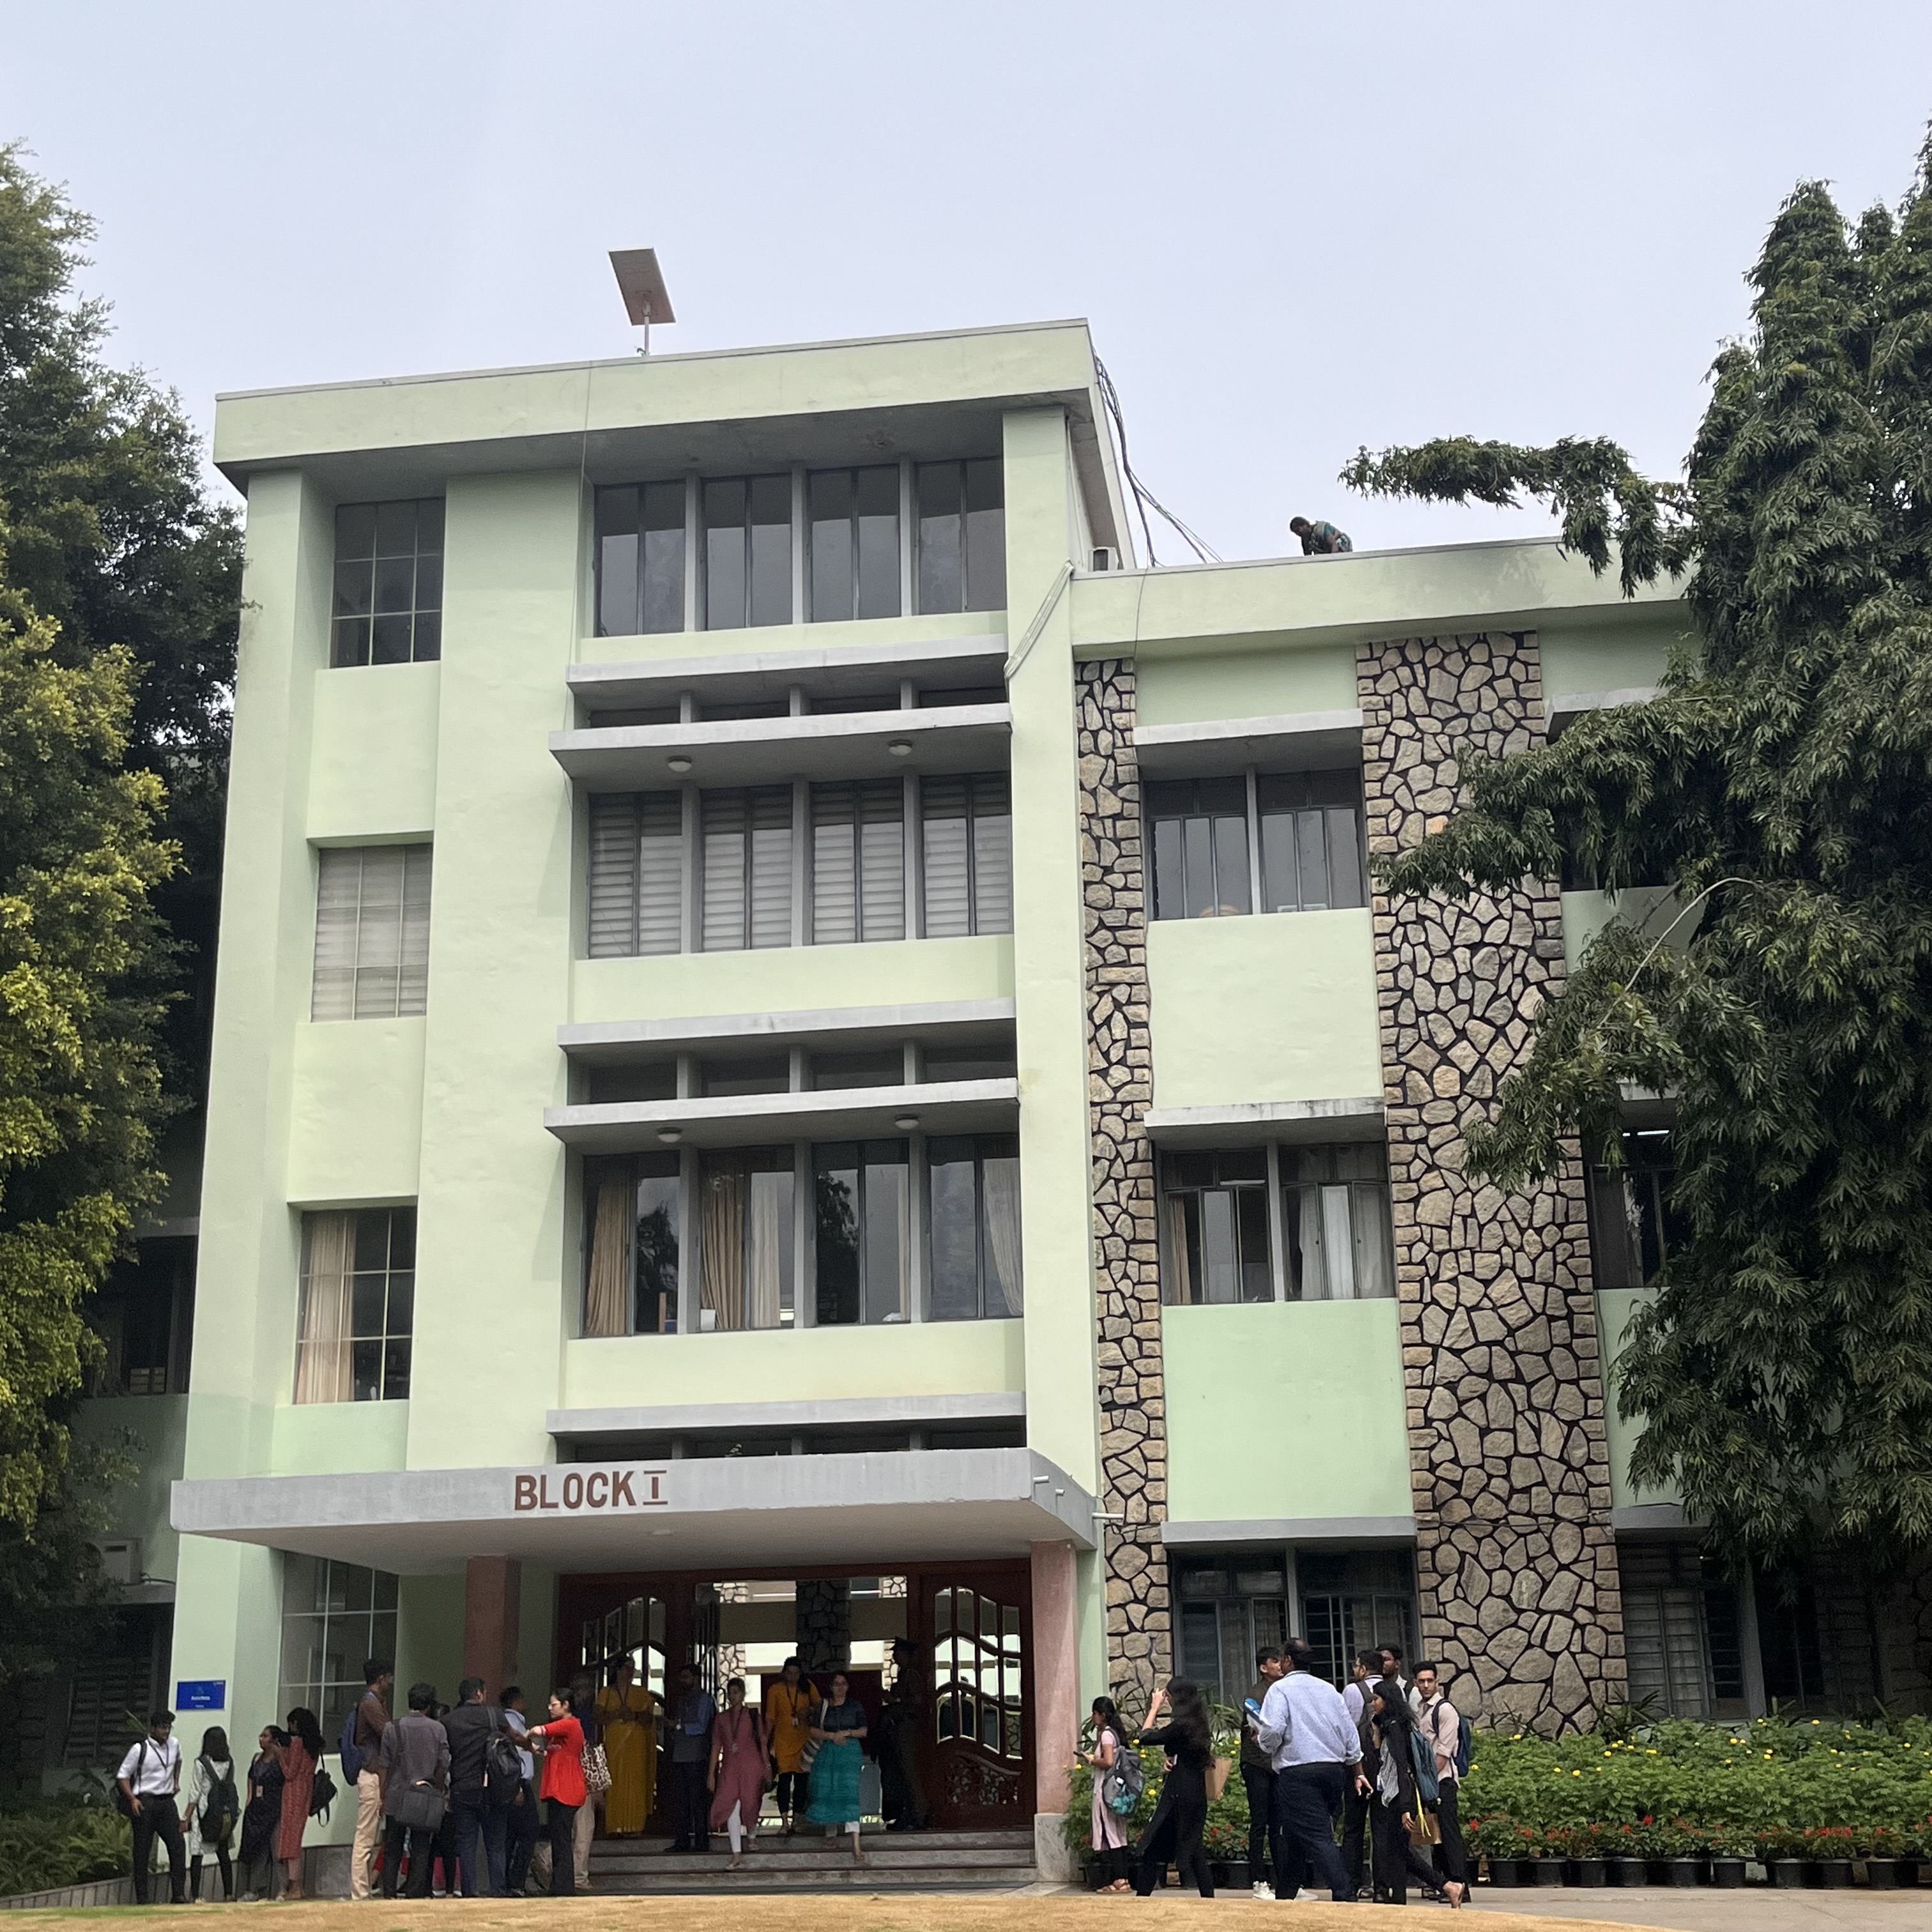Block 1: (165, 329, 1670, 1686)
